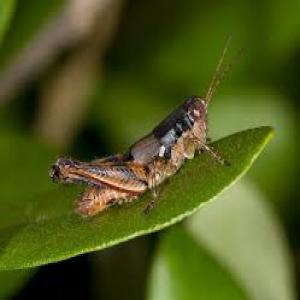locust: (49, 59, 240, 219)
